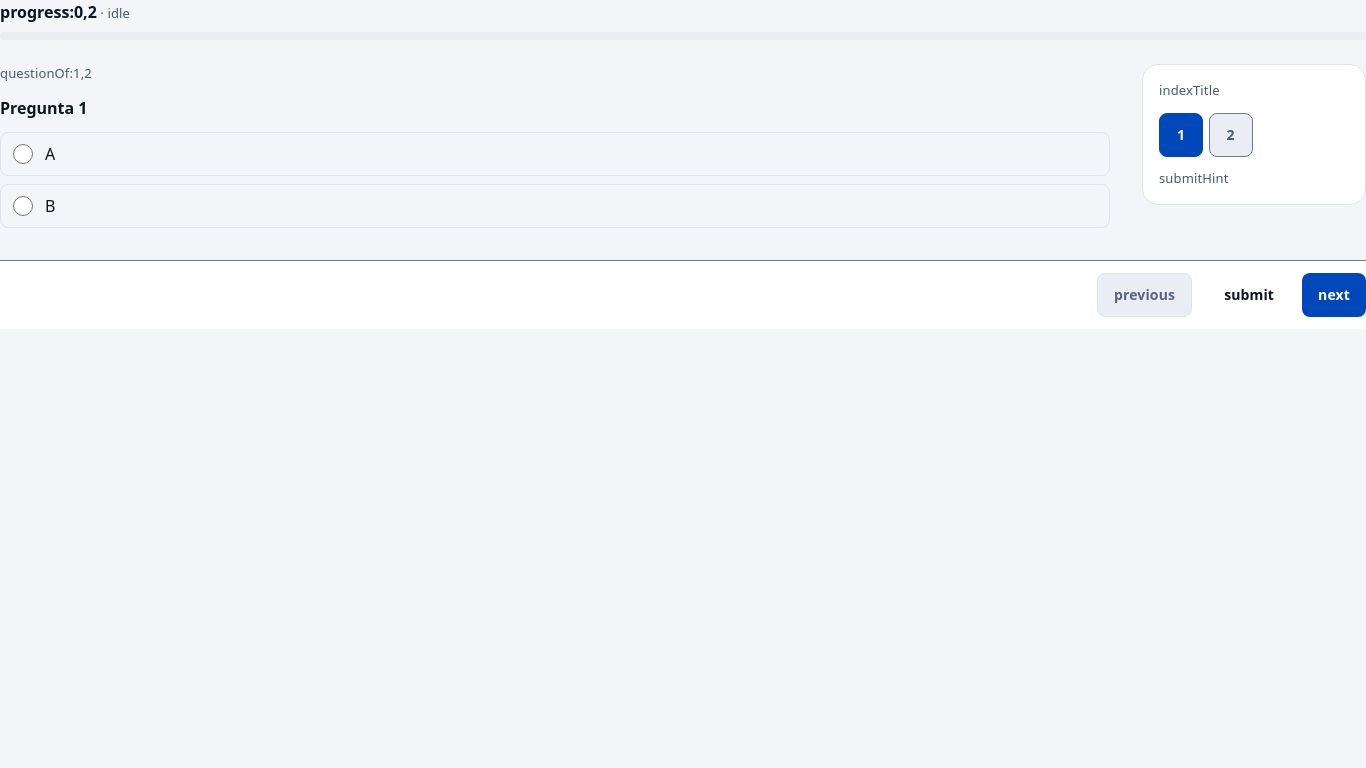
AttemptPlayer en curso › Entregar abre el diálogo con lo que falta por responder
Click the button "submit". click: (1249, 294)
box: x1=1208 y1=272 x2=1290 y2=316
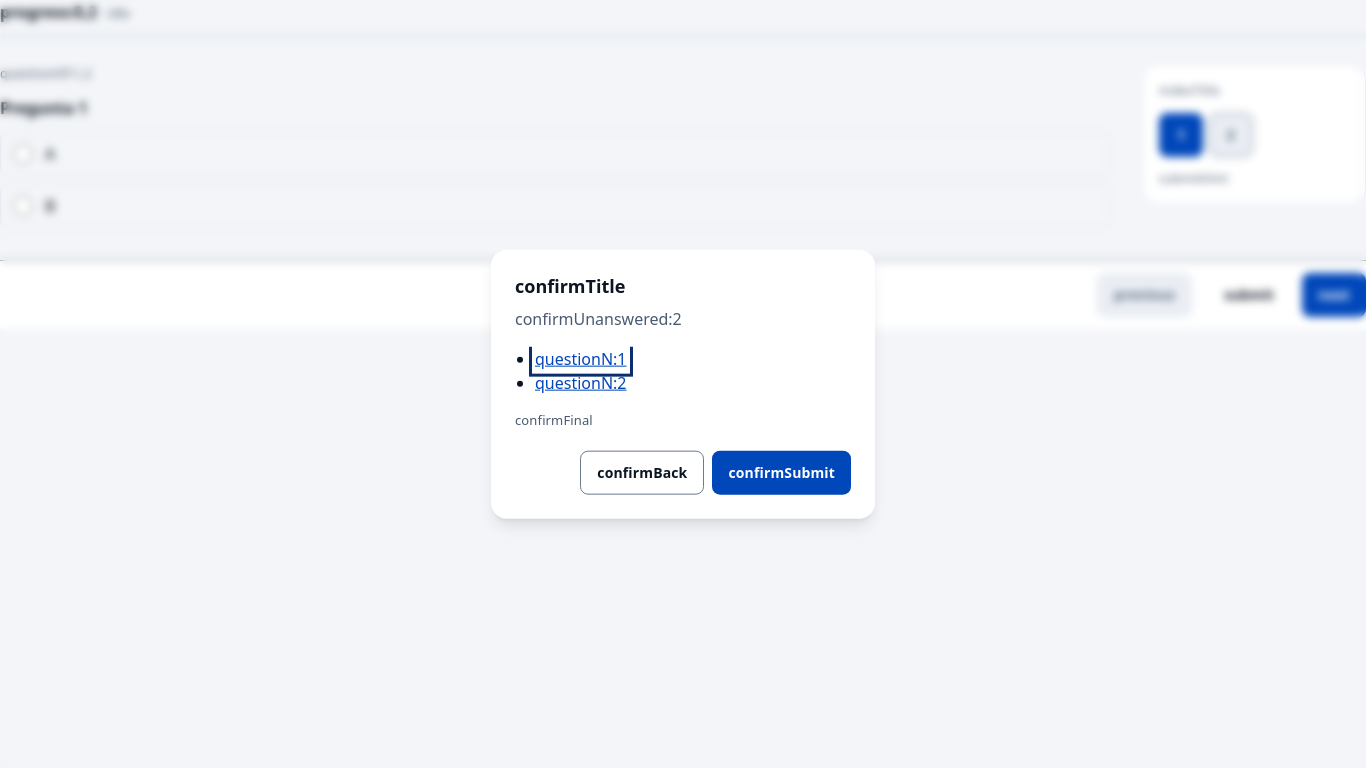
Expected: the dialog shows "questionN:1", x1=535 y1=347 x2=626 y2=371
Expected: the dialog shows "questionN:2", x1=535 y1=371 x2=626 y2=395
